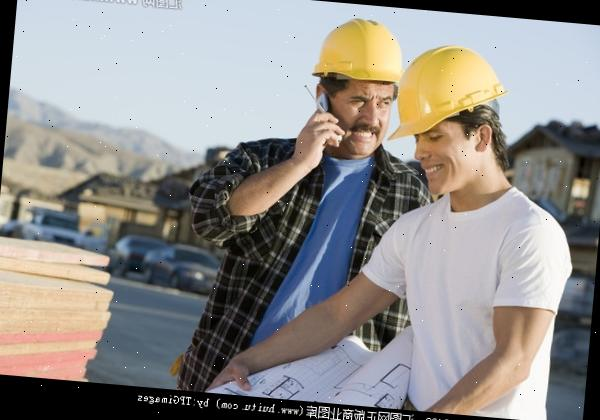helmet: (390, 39, 515, 145), (306, 12, 404, 90)
no_wear: (192, 144, 420, 367), (392, 200, 572, 415)
